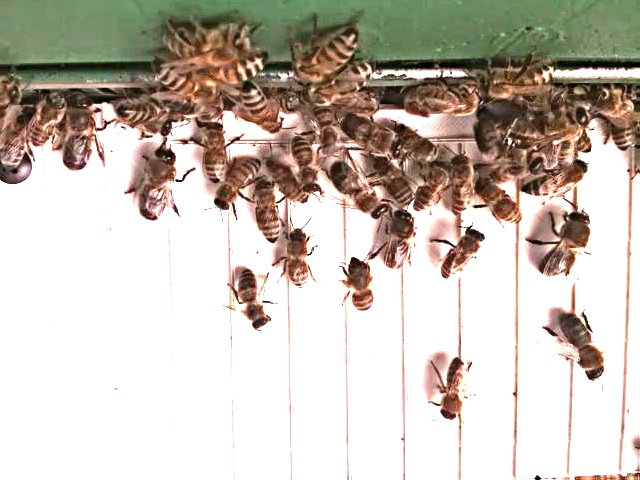Drone: (535, 209, 595, 284), (328, 159, 391, 223), (556, 312, 610, 385), (135, 146, 182, 224), (340, 113, 410, 160), (65, 93, 100, 177), (379, 204, 419, 274)
Worker: (475, 60, 558, 107), (295, 28, 363, 84), (472, 171, 529, 231), (440, 144, 483, 221), (285, 129, 330, 200), (520, 159, 593, 202), (214, 157, 266, 215), (438, 227, 488, 286), (279, 227, 324, 292), (413, 76, 481, 118), (435, 353, 473, 427), (233, 268, 272, 335), (243, 80, 287, 138), (251, 178, 287, 248), (339, 256, 379, 318), (31, 93, 70, 155), (416, 154, 452, 221), (200, 125, 230, 188)
